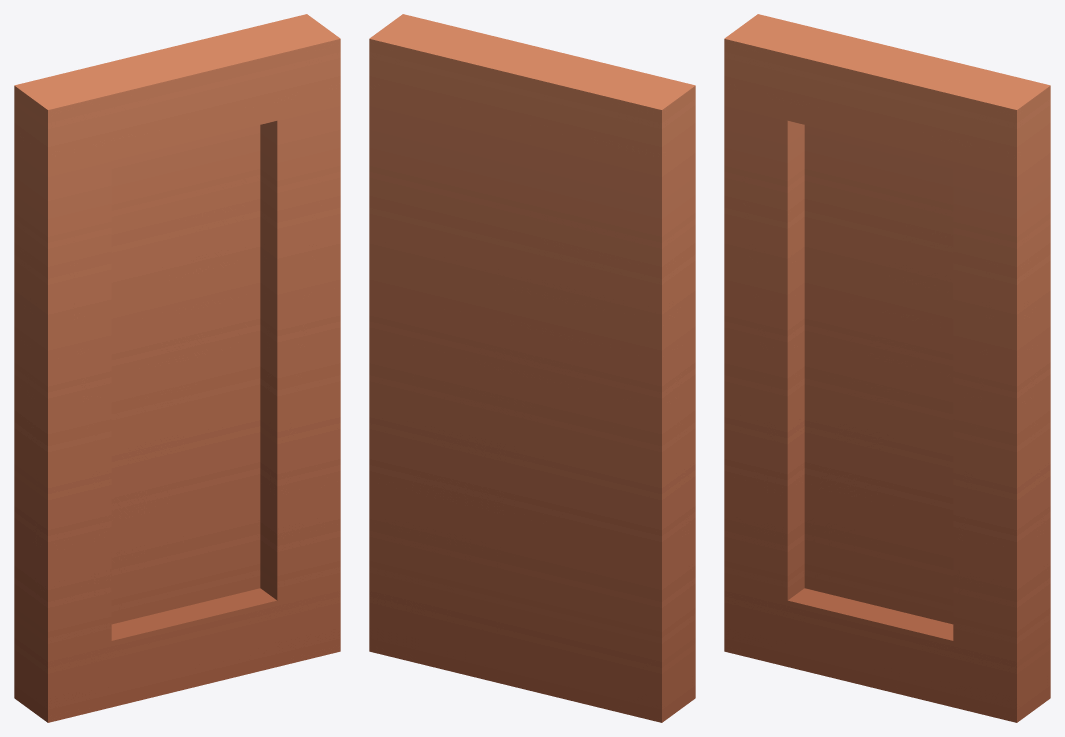
3 renders of one model, left to right at view 1: azimuth 30°, elevation 25°; view 2: azimuth 150°, elevation 25°; view 3: azimuth 330°, elevation 25°, orthographic.
Visible parts, largest first — view 1: door-brown; view 2: door-brown; view 3: door-brown.
Part boxes in pixels (<box>): door-brown: <box>14,14,340,722</box>; door-brown: <box>369,14,695,722</box>; door-brown: <box>724,14,1050,722</box>.
Bounding box in the file's own units: 0.25 × 0.5 × 0.05.
Materials: 1 (1 with a texture image).
